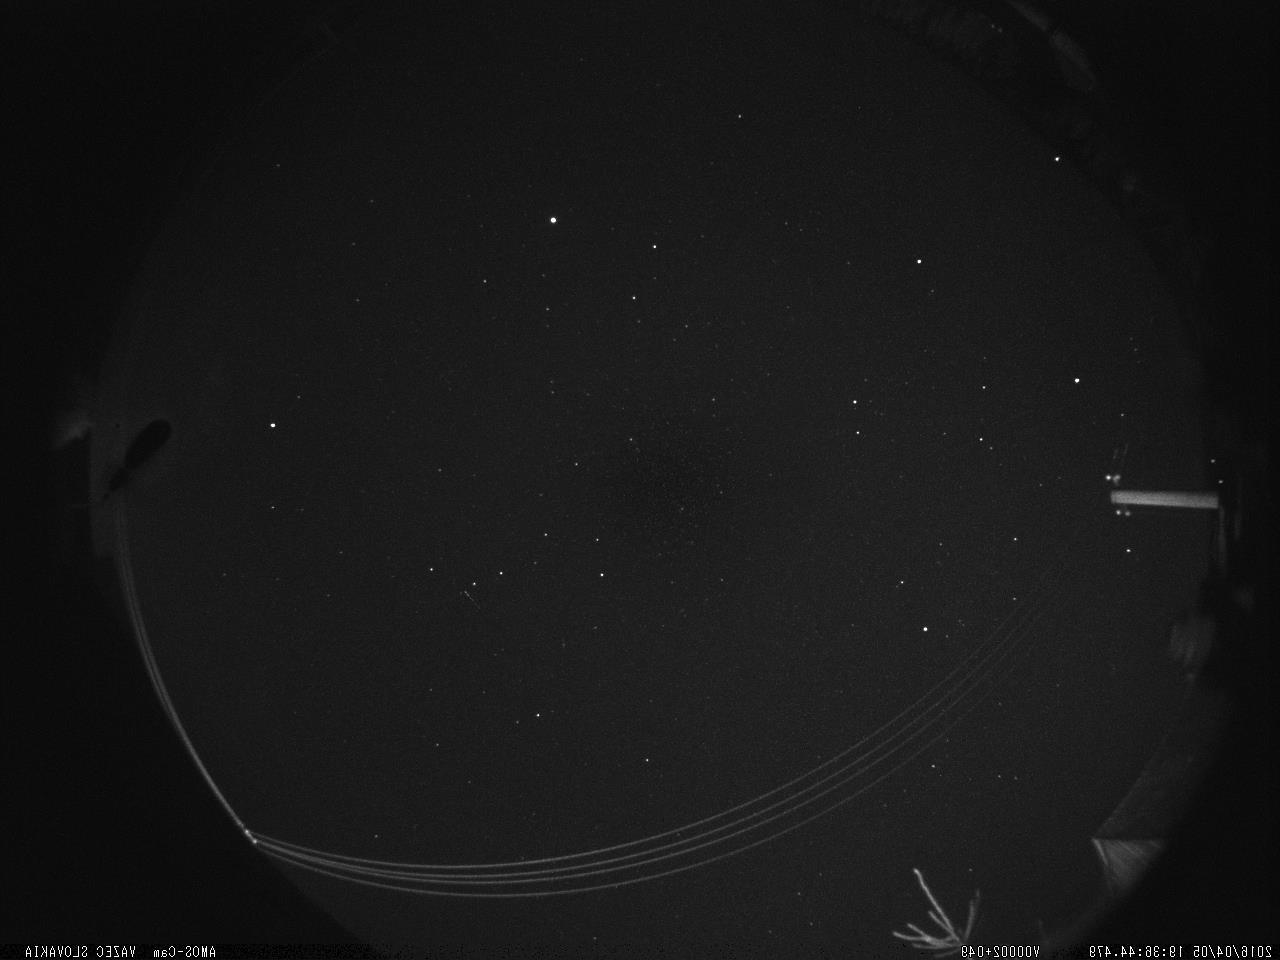meteor: (1102, 462, 1217, 551)
